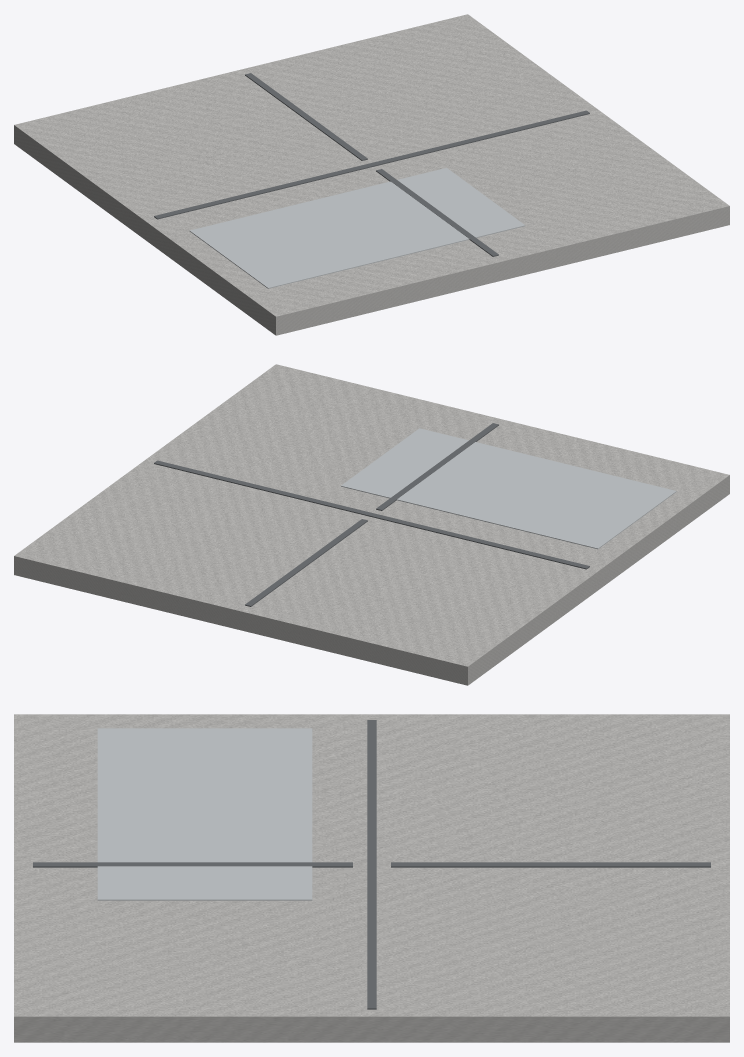
Rendered from tool-hire-depot-and-plant-yard-tool-hire-depot-and-pla-d299c11e__35287.glb.
3 views of the same model, one above another, from view 1: azimuth 30°, elevation 25°; view 2: azimuth 150°, elevation 25°; view 3: azimuth 270°, elevation 25° (orthographic). The views are drawn at different scales.
Visible parts, largest first — view 1: tool-hire-depot-and-plant-yard-yard-ground-tile; view 2: tool-hire-depot-and-plant-yard-yard-ground-tile; view 3: tool-hire-depot-and-plant-yard-yard-ground-tile.
Part boxes in pixels (left/top/right/bottom): tool-hire-depot-and-plant-yard-yard-ground-tile: left=14, top=14, right=729, bottom=335; tool-hire-depot-and-plant-yard-yard-ground-tile: left=14, top=364, right=729, bottom=685; tool-hire-depot-and-plant-yard-yard-ground-tile: left=14, top=714, right=729, bottom=1042.
Size of the model in its own units: 3 by 0.126 by 3.
3 materials, 1 textured.
